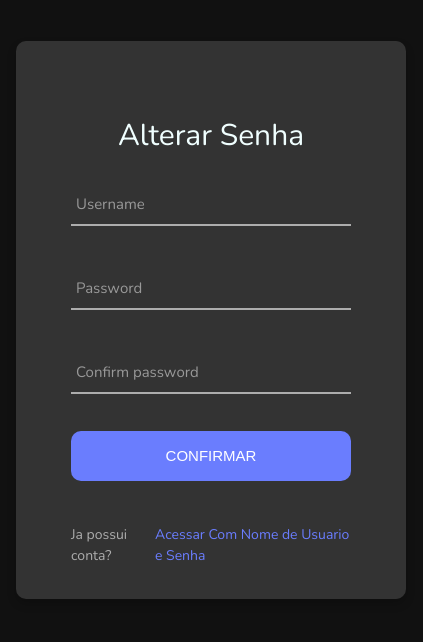
Componente Alterar › Operações com backend não funcional › Alerta ao falhar a comunicacao com servidor
Type "Victor" into the field with test id "usernameInput".
click(211, 202); type("Victor")  # box [71,179,351,224]
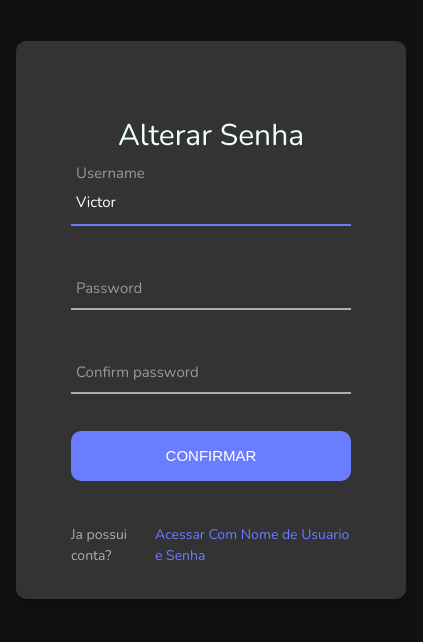
Type "1234" into the password field with test id "passwordInput".
click(211, 286); type("1234")  # box [71,263,351,308]
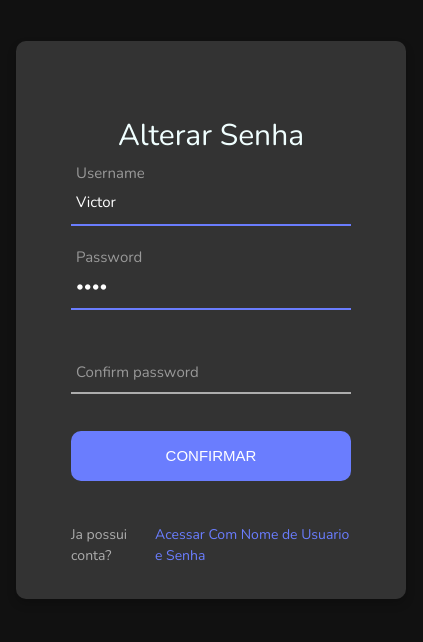
Type "1234" into the password field with test id "confirmpasswordInput".
click(211, 370); type("1234")  # box [71,347,351,392]
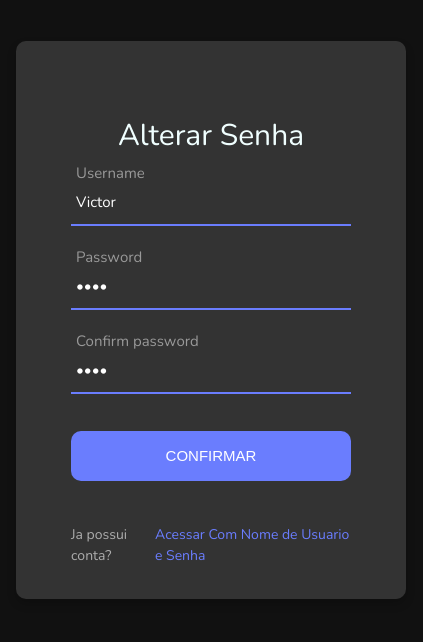
Click the button.
click(211, 456)  # box [71,431,351,481]
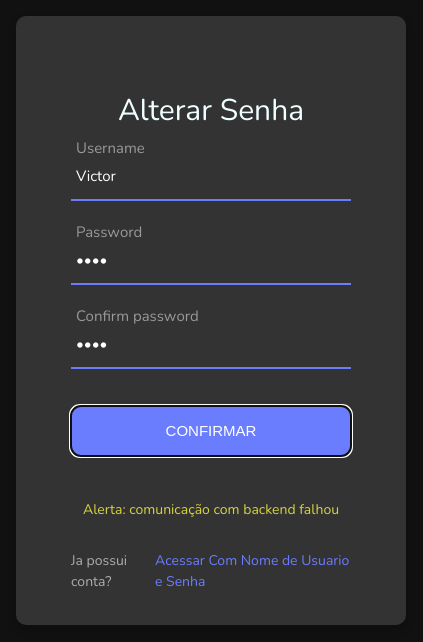
Check: the text "comunicação com backend falhou" is shown, box [129,500,339,518]
